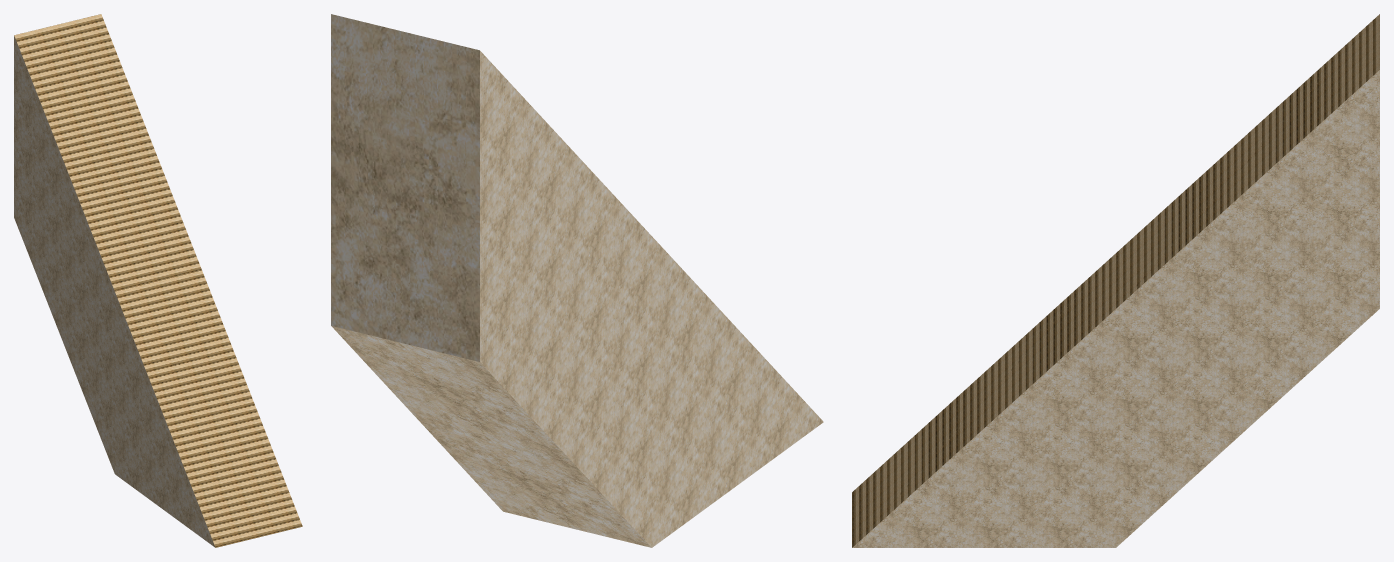
File: thm_tato_imprv_stair_large_s02_l1.fbx
3 views of the same model, side by side, from view 1: azimuth 30°, elevation 25°; view 2: azimuth 150°, elevation 25°; view 3: azimuth 270°, elevation 25° (orthographic). The views are drawn at different scales.
Visible parts, largest first — view 1: mesh_node; view 2: mesh_node; view 3: mesh_node.
Part boxes in pixels (x1=…): mesh_node: x1=14, y1=14, x2=302, y2=547; mesh_node: x1=331, y1=14, x2=823, y2=547; mesh_node: x1=852, y1=14, x2=1379, y2=547.
Size of the model in its own units: 4 by 16 by 16.
Materials: 2 (2 with a texture image).
